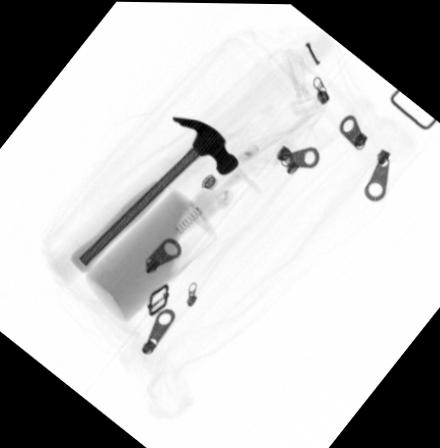Hammer: (70, 114, 238, 273)
